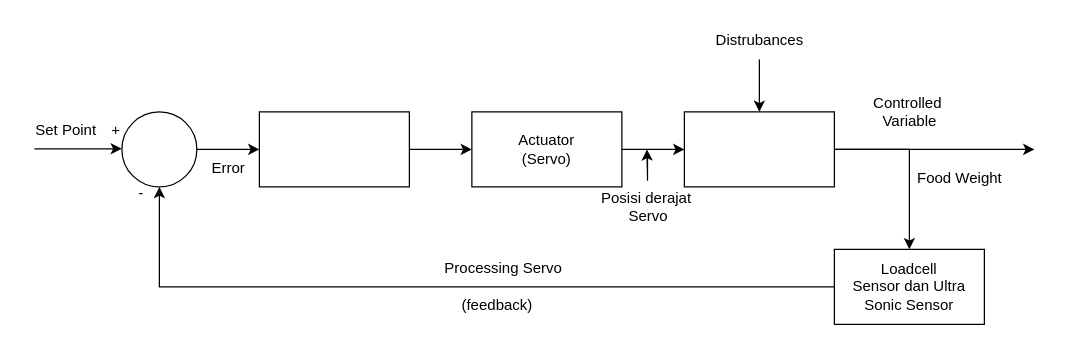
This 1066x346 diagram has some shape labels left out. Each missing label, with the box of its shape:
Controller: (258, 111, 409, 187)
Process (Open Servo): (683, 111, 834, 187)
